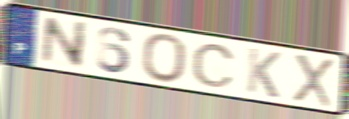6: (97, 27, 133, 75)
C: (190, 42, 237, 89)
K: (244, 45, 283, 100)
N: (38, 16, 90, 71)
O: (140, 32, 189, 85)
X: (291, 52, 335, 110)
